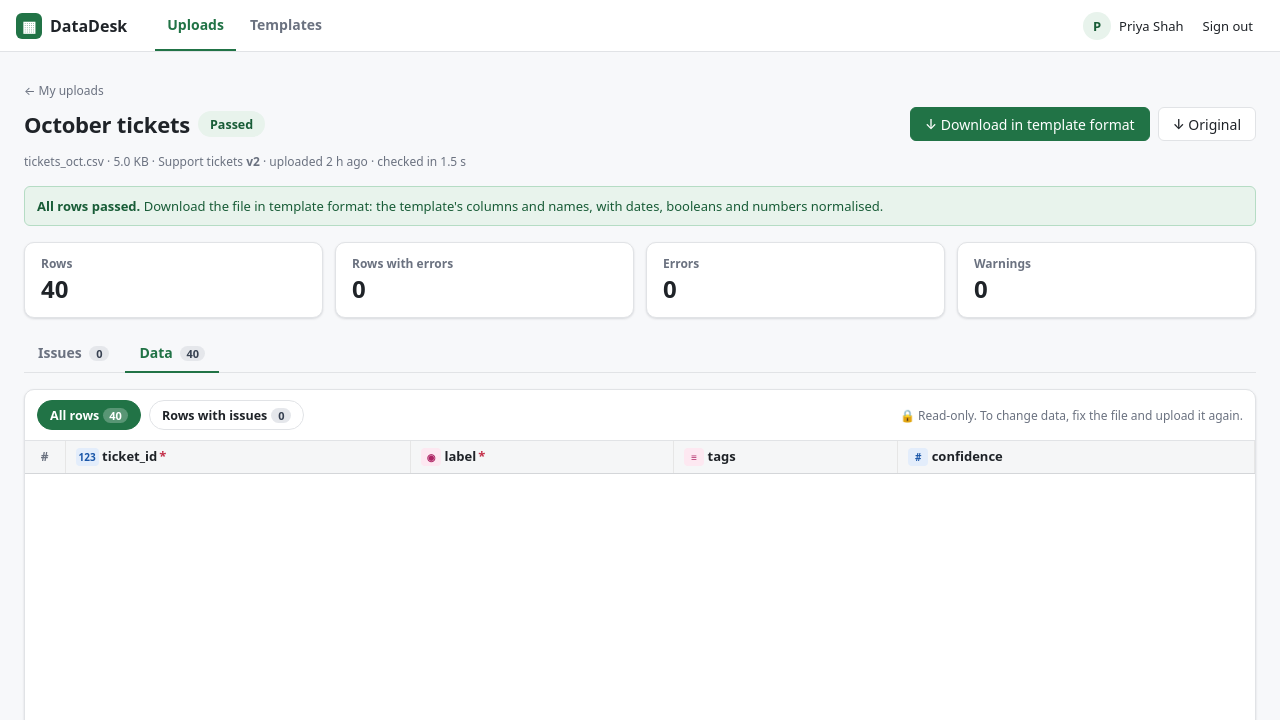
Test: UploadResultPage › passed: opens on the data, offers the template-format download, and says there are no issues
Expected: the table with test id "data-table" is shown, [25, 441, 1255, 474]
Expected: the text "All rows passed." is shown, [37, 197, 140, 215]
Click the tab "Issues 0" at (74, 354), box [24, 334, 123, 373]
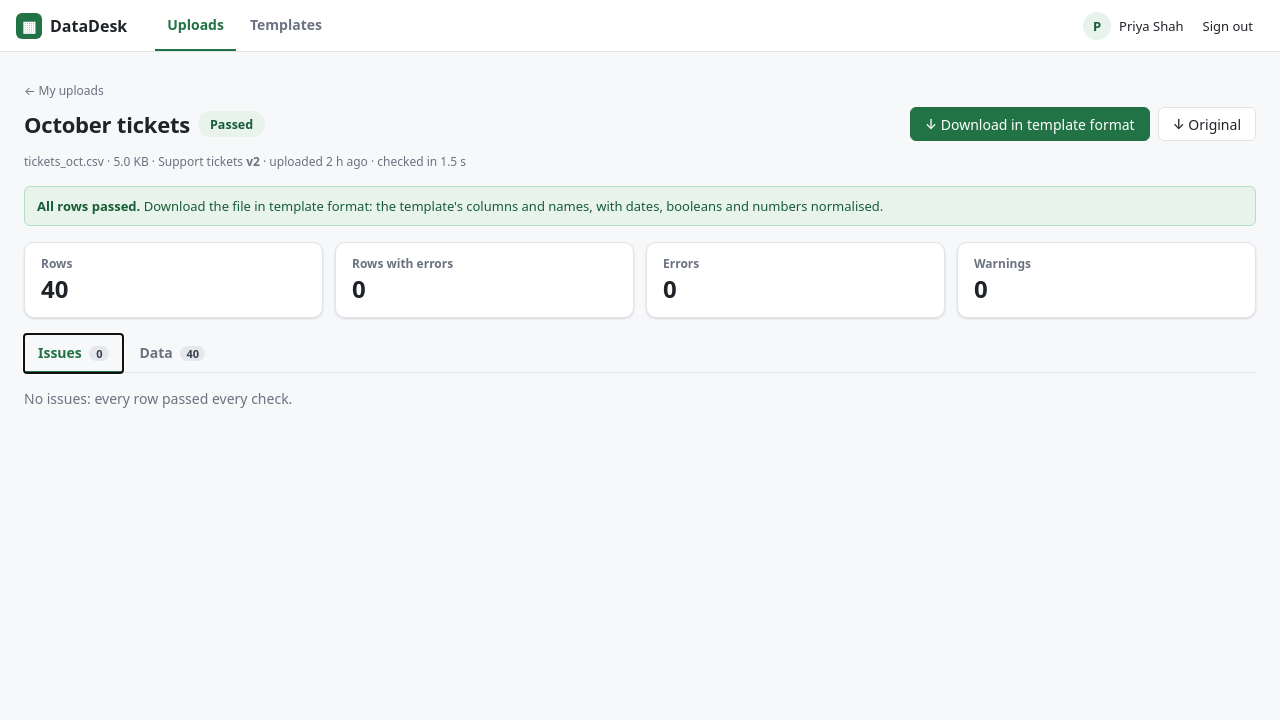
Expected: the text "No issues: every row passed every check." is shown, [24, 389, 292, 408]
